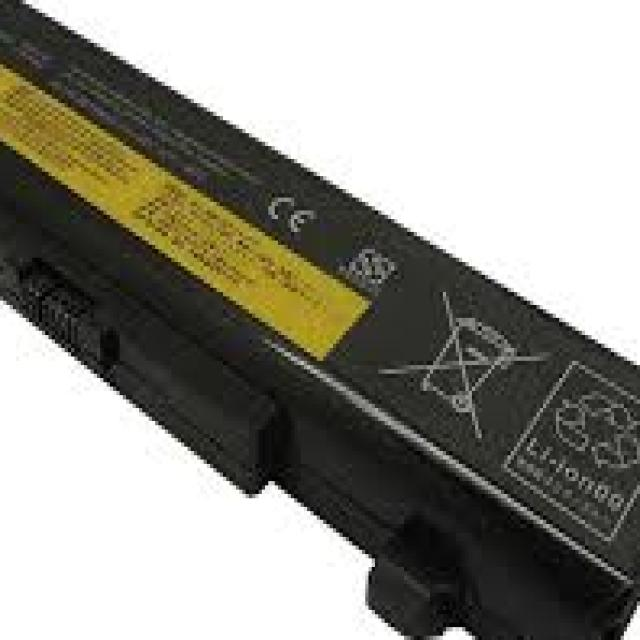organic: (3, 4, 631, 627)
